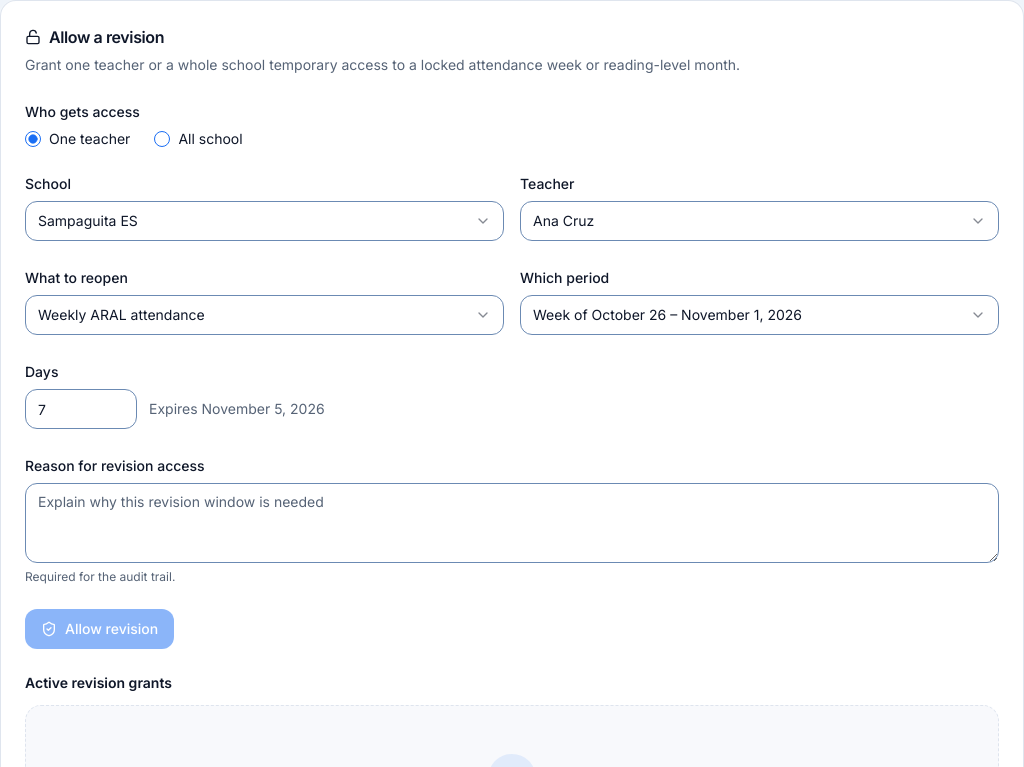
UnlockConsole — action failure › renders res.error rather than failing silently
This screenshot has width=1024, height=767.
Type "Correction requested by school" into the text box labelled "Reason for revision access" at point(512, 523), box [25,483,999,563]
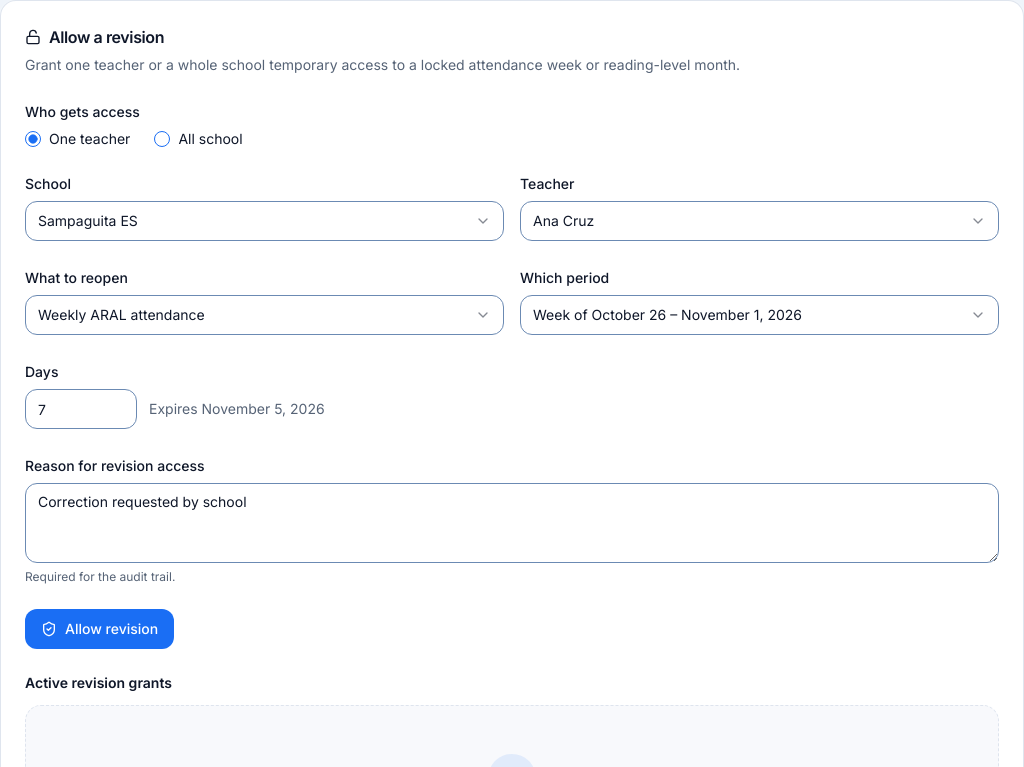
Click the button "Allow revision" at point(100, 629), box [25,609,174,649]
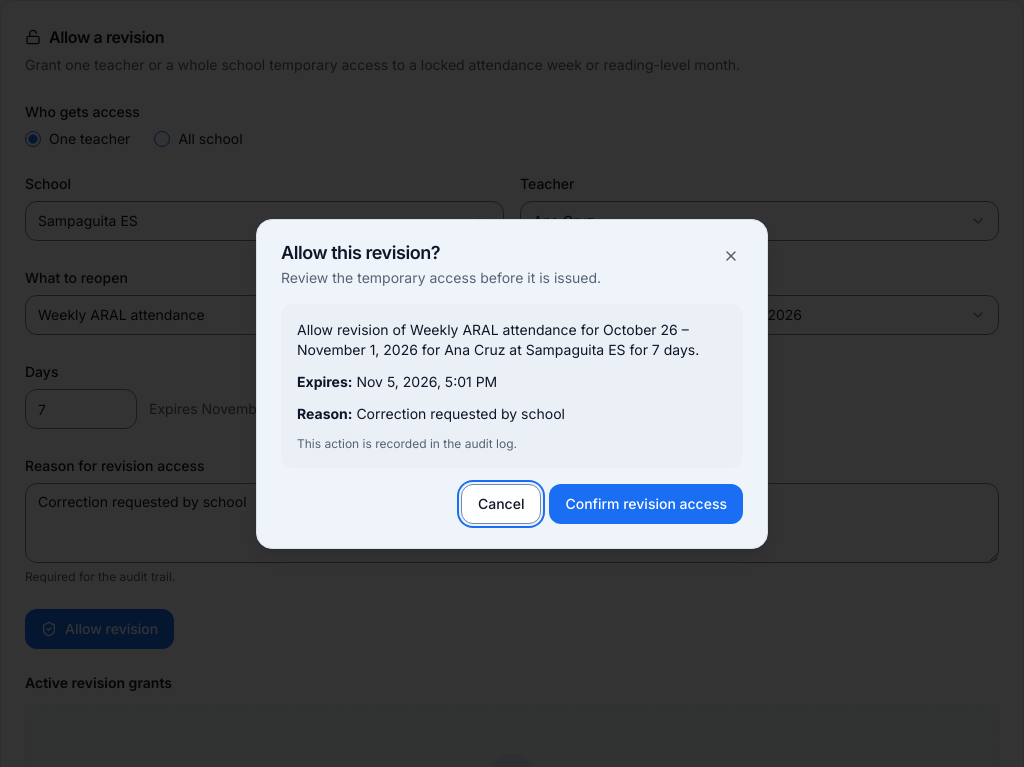
Click the button "Confirm revision access" at point(646, 504), box [549,484,743,524]
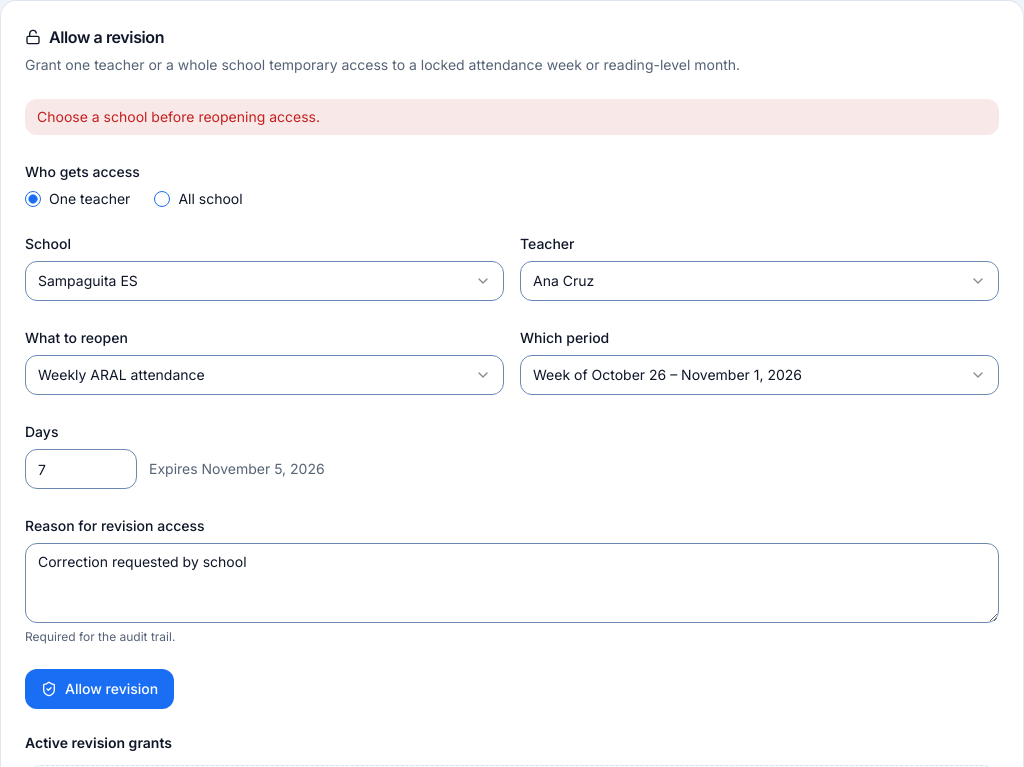
Now the message reads "Choose a school before reopening access.", box [37,108,320,125]
